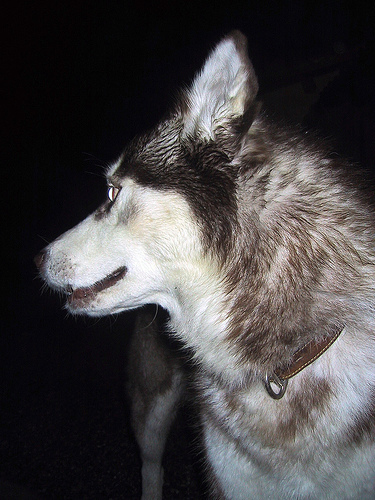dog: (33, 31, 373, 496)
